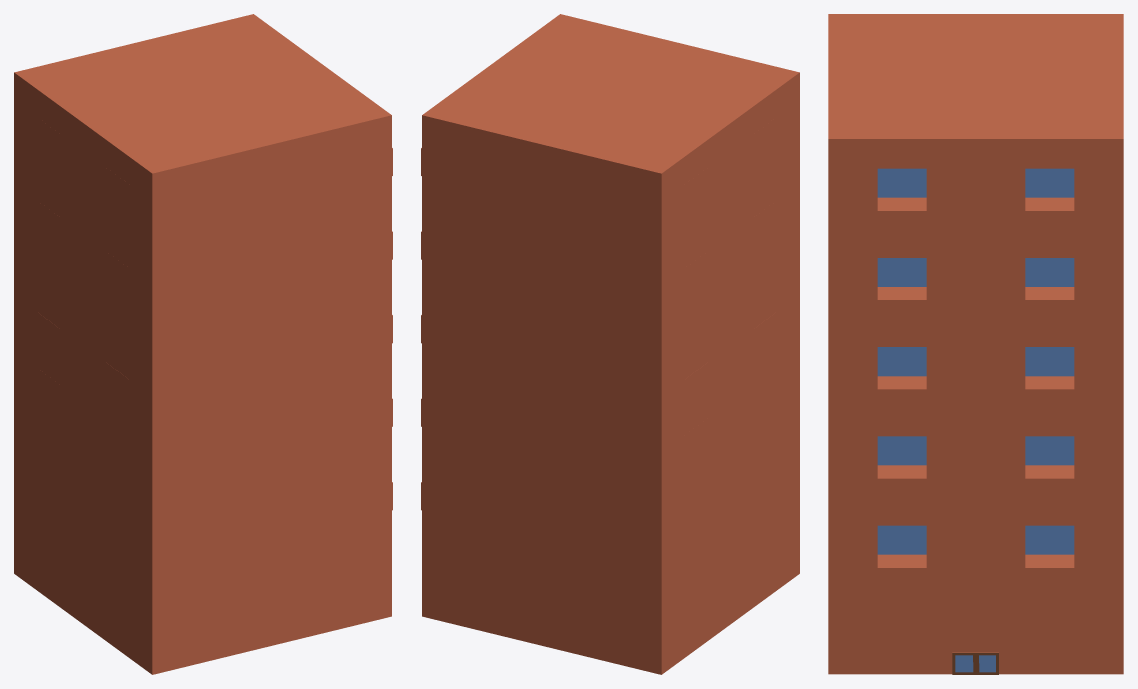
Rendered from predio3.fbx.
The picture shows the model from 3 angles, left to right: view 1: azimuth 30°, elevation 25°; view 2: azimuth 150°, elevation 25°; view 3: azimuth 270°, elevation 25°; orthographic projection. The views are drawn at different scales.
Visible parts, largest first — view 1: Cube; view 2: Cube; view 3: Cube.
Part boxes in pixels (x1,y1,x2,y2): Cube: (14, 14, 392, 674); Cube: (421, 14, 799, 674); Cube: (828, 14, 1123, 674).
Bounding box in the file's own units: 220 × 400 × 200.
